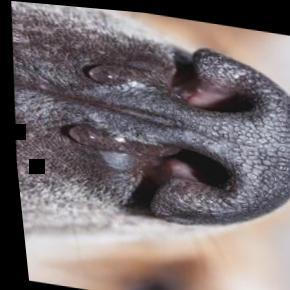nasal_discharge: (48, 37, 220, 181)
